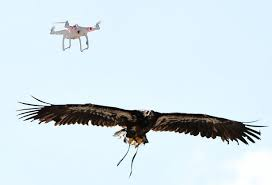Bird: (11, 91, 271, 179)
Drone: (44, 17, 104, 54)
